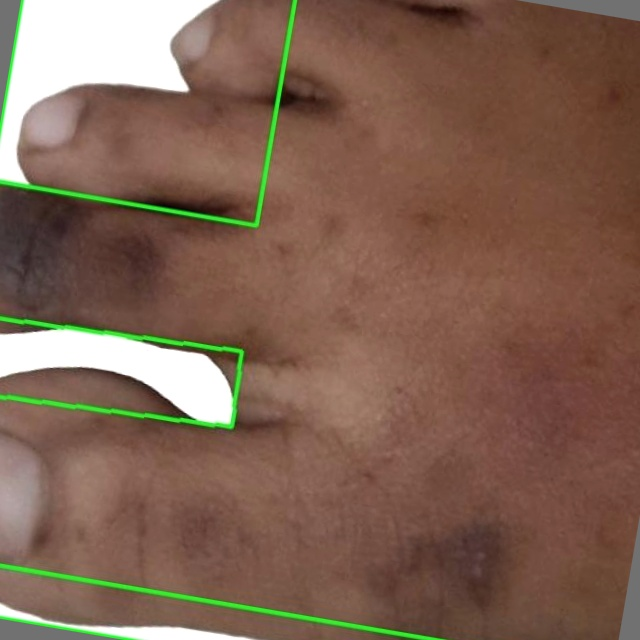Tinea Corporis: (0, 0, 296, 224), (0, 318, 242, 426)
